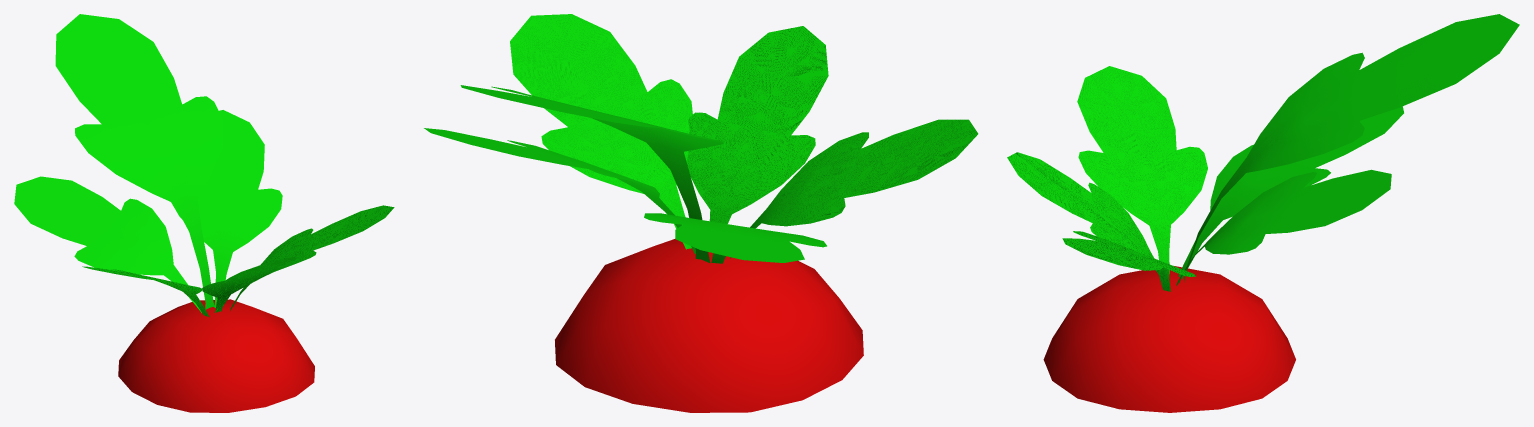
Rendered from Radish_4.fbx.
3 views of the same model, side by side, from view 1: azimuth 30°, elevation 25°; view 2: azimuth 150°, elevation 25°; view 3: azimuth 270°, elevation 25° (orthographic). The views are drawn at different scales.
Parts seen in each view (by area): view 1: BSTC_Radish_4; view 2: BSTC_Radish_4; view 3: BSTC_Radish_4.
Part boxes in pixels (left/top/right/bottom): BSTC_Radish_4: left=14, top=14, right=394, bottom=412; BSTC_Radish_4: left=424, top=14, right=978, bottom=412; BSTC_Radish_4: left=1007, top=14, right=1519, bottom=412.
Bounding box in the file's own units: 55.65 × 46.62 × 64.89.
